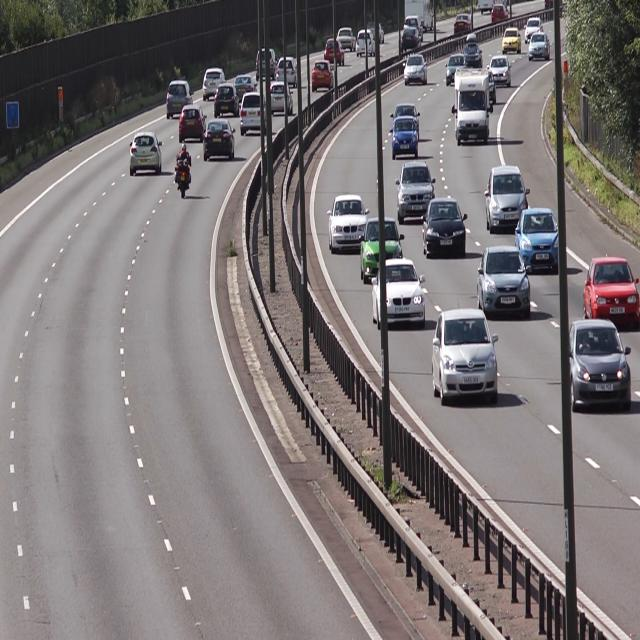Car: (432, 308, 501, 403), (566, 320, 634, 415), (477, 247, 534, 320), (371, 264, 429, 333), (584, 251, 640, 322), (422, 196, 468, 262), (454, 66, 491, 145), (488, 165, 531, 232), (516, 207, 561, 270), (327, 192, 370, 255), (396, 162, 438, 222), (363, 218, 403, 278), (128, 131, 166, 179), (204, 117, 238, 165), (390, 116, 420, 159), (239, 91, 268, 135), (166, 80, 197, 120), (177, 105, 207, 144), (201, 65, 228, 104), (213, 83, 242, 118), (404, 55, 429, 88), (489, 54, 513, 87), (529, 33, 554, 63)
